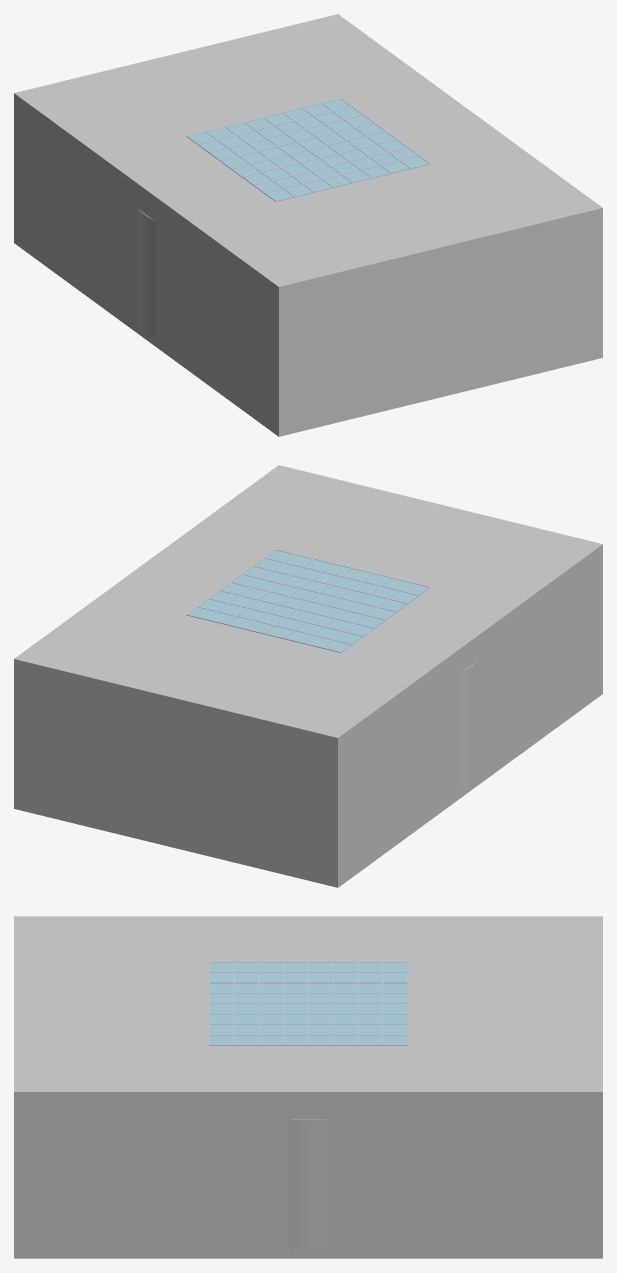
File: interior.fbx
3 views of the same model, one above another, from view 1: azimuth 30°, elevation 25°; view 2: azimuth 150°, elevation 25°; view 3: azimuth 270°, elevation 25° (orthographic). The views are drawn at different scales.
Parts seen in each view (by area): view 1: shadow, window, wall; view 2: shadow, window, wall; view 3: shadow, window, wall.
Boxes of the visible parts, x1,y1,x2,y2 form: shadow: [14, 14, 602, 436]; window: [186, 98, 429, 201]; wall: [137, 209, 155, 337]; shadow: [14, 465, 602, 887]; window: [187, 549, 430, 652]; wall: [461, 660, 479, 788]; shadow: [14, 916, 602, 1258]; window: [209, 961, 407, 1045]; wall: [289, 1119, 327, 1249].
Bounding box in the file's own units: 26.04 × 11.51 × 36.7.
